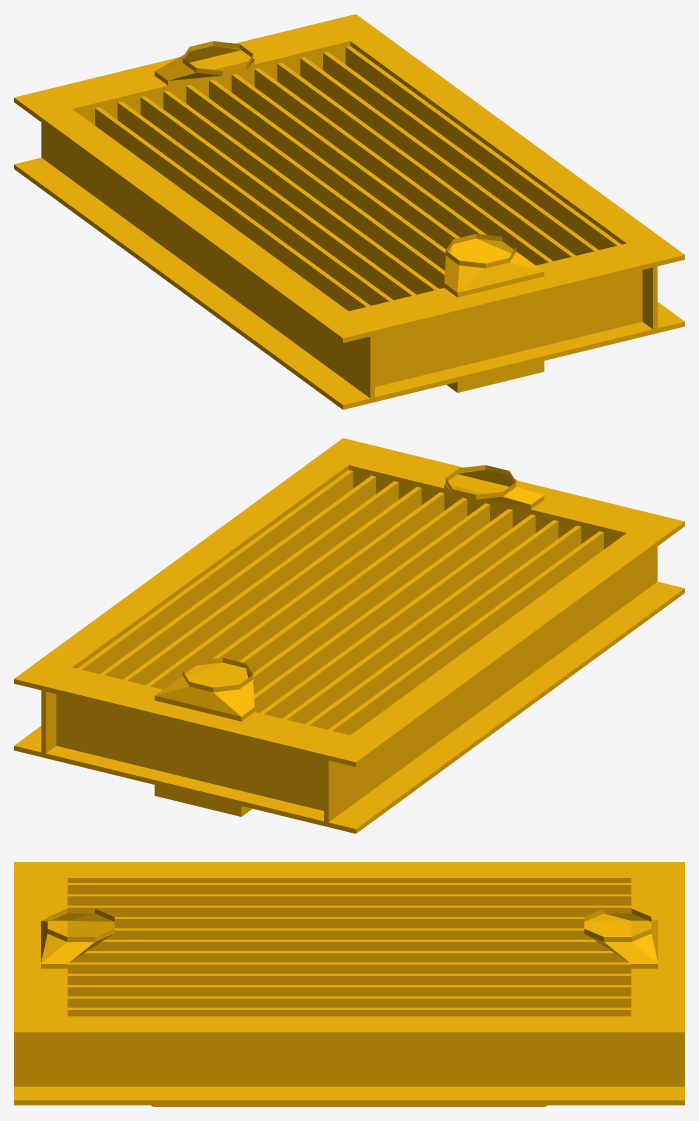
File: fluid_radiator_electric_5x3x1.dae
3 renders of one model, top to bottom at view 1: azimuth 30°, elevation 25°; view 2: azimuth 150°, elevation 25°; view 3: azimuth 270°, elevation 25°, orthographic.
Visible parts, largest first — view 1: Cube; view 2: Cube; view 3: Cube.
Part boxes in pixels (x1,y1,x2,y2): Cube: (14, 14, 684, 409); Cube: (14, 438, 684, 833); Cube: (14, 862, 684, 1106).
Size of the model in its own units: 0.75 by 1.25 by 0.25.
